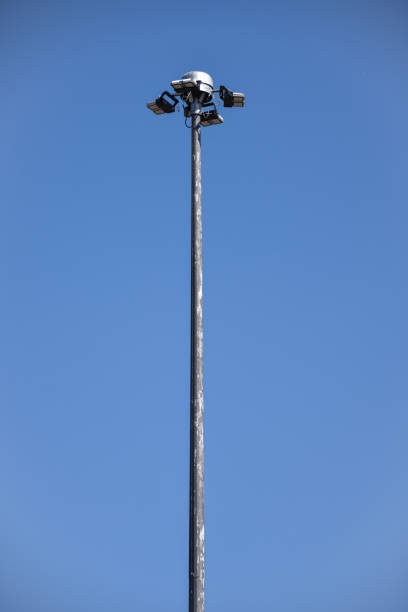light_pole: (184, 119, 214, 612)
